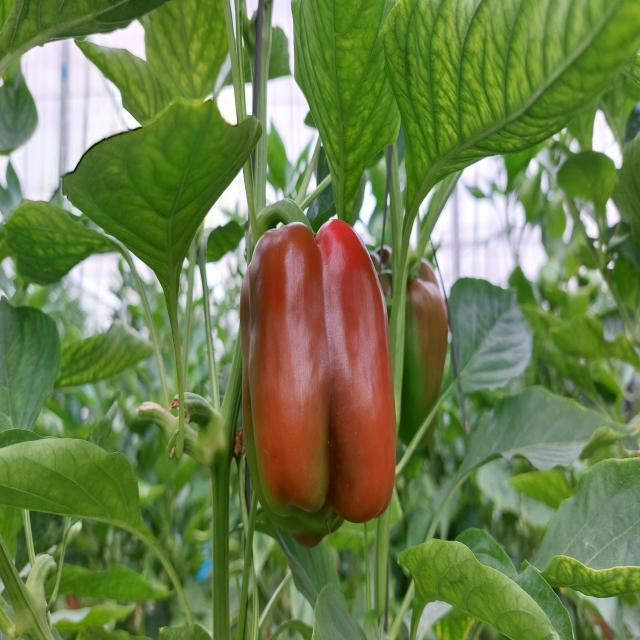BrownishRed--Can-be-Harvested: (234, 219, 422, 563)
